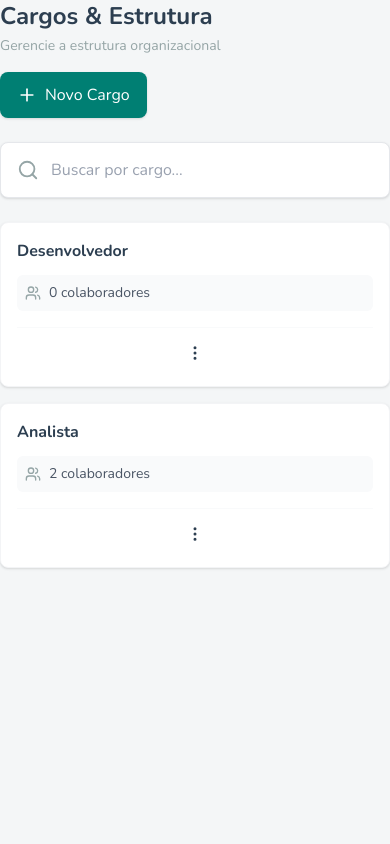
Test: Positions Page (Cargos) › deve abrir modal de edição ao clicar em Editar na tabela
What coordinates should you click on to do the following:
click the button named "Ações" below "Desenvolvedor"
I would click on:
 (195, 353)
Its box is [178,336,212,370].
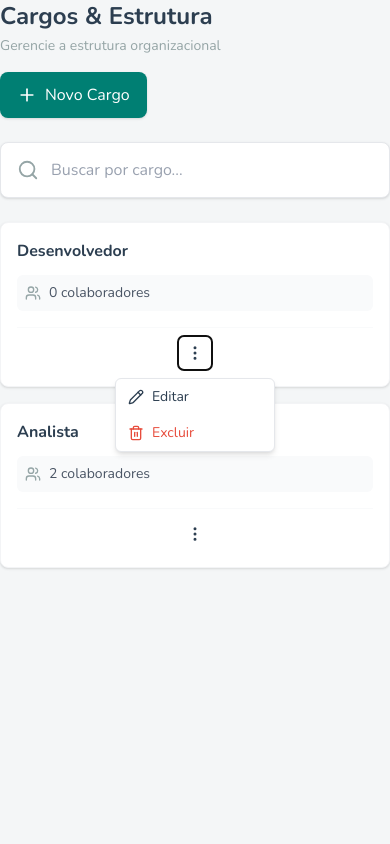
What coordinates should you click on to do the following:
click the button "Editar"
I would click on:
 (195, 397)
Its box is [116,379,274,415].
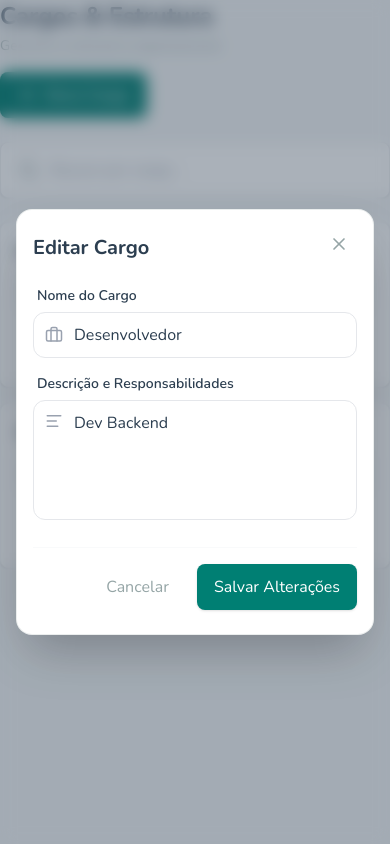
expect the dialog "Editar Cargo" is shown: met
expect the field showing "Desenvolvedor" is shown: met, box [33,312,357,358]
